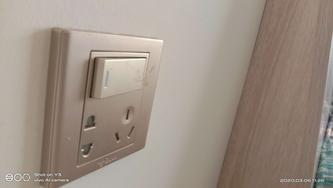switch: (90, 48, 155, 101)
